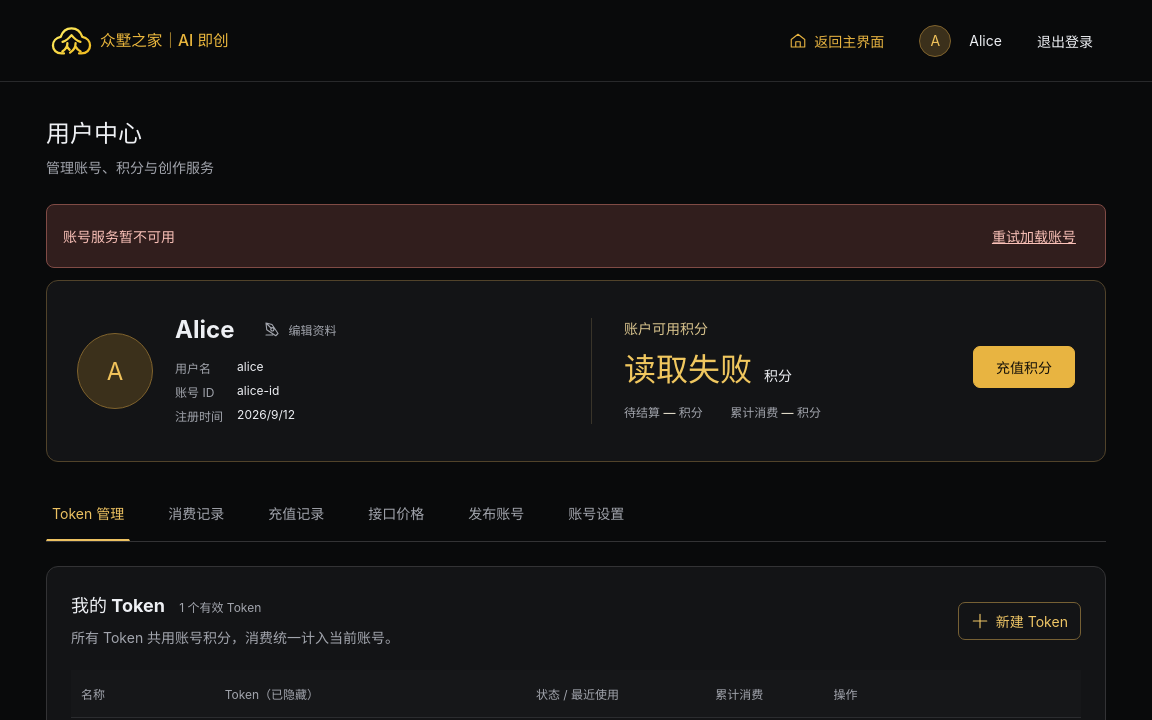
Scenario: failed summary stays unknown and retry loads the real balance
Expected: the message shows "账号服务暂不可用", [63, 228, 175, 245]
Expected: the text "125" is not shown
What coordinates should you click on to do the following:
click the button "重试加载账号"
I would click on:
 (1034, 236)
Its box is [979, 217, 1089, 255].
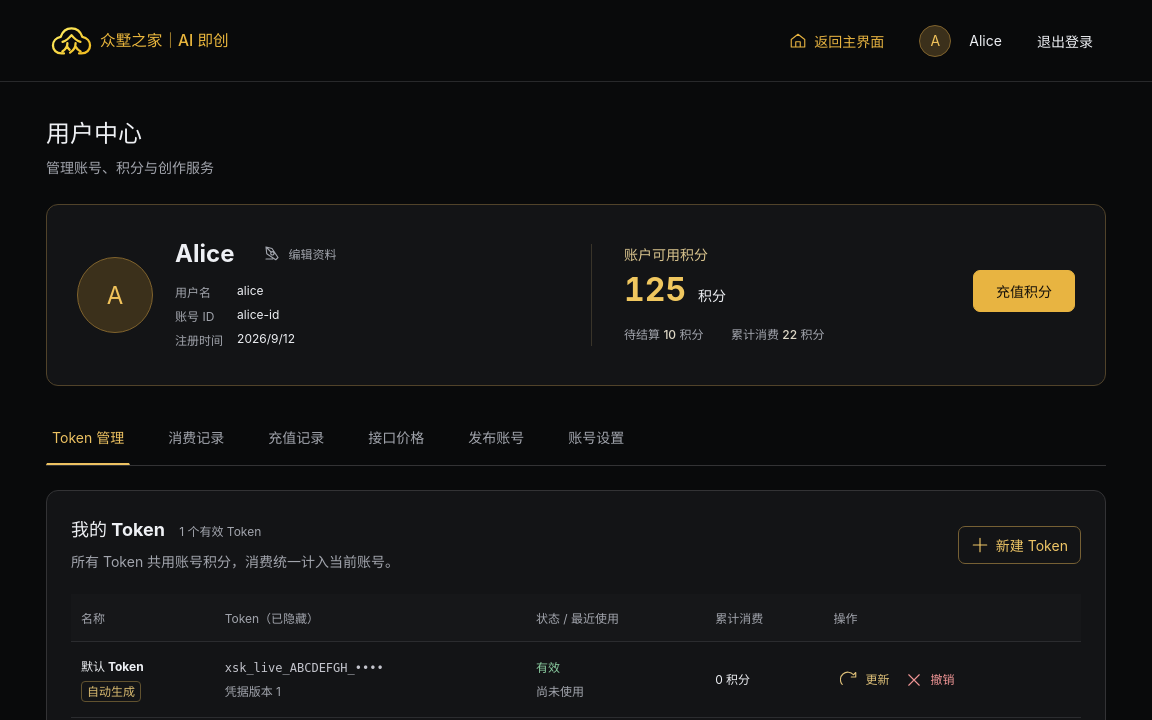
Expected: the text "125" is shown, [624, 270, 686, 309]
